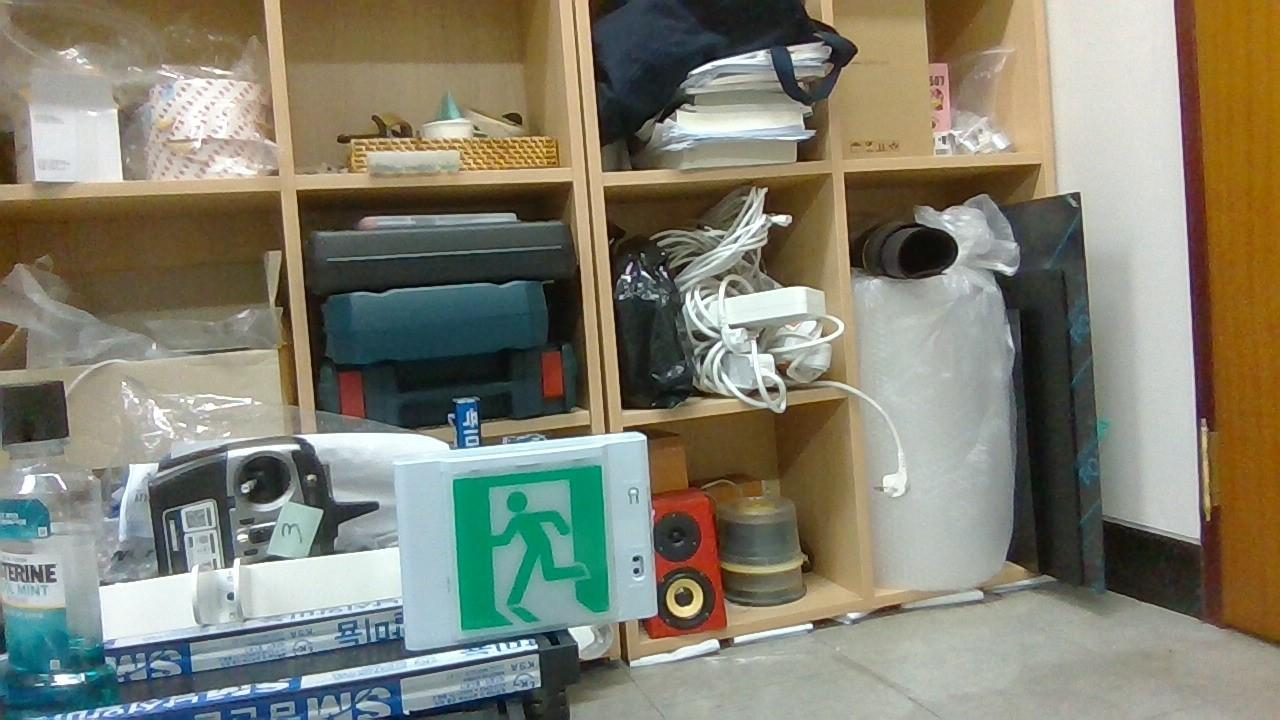emergency_exit: (392, 430, 659, 652), (928, 62, 952, 135)
